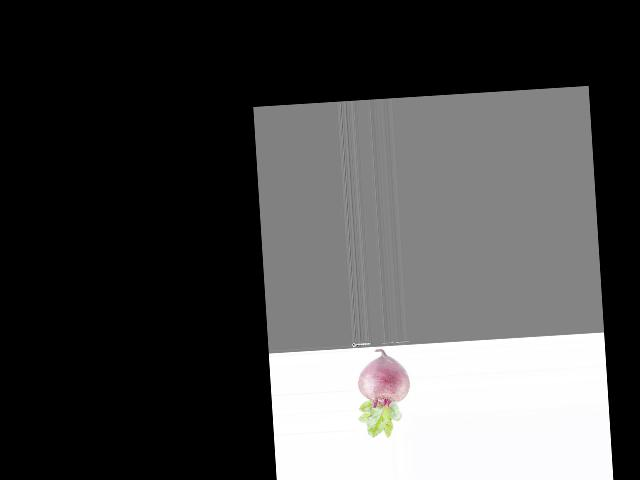beet: (354, 348, 413, 439)
